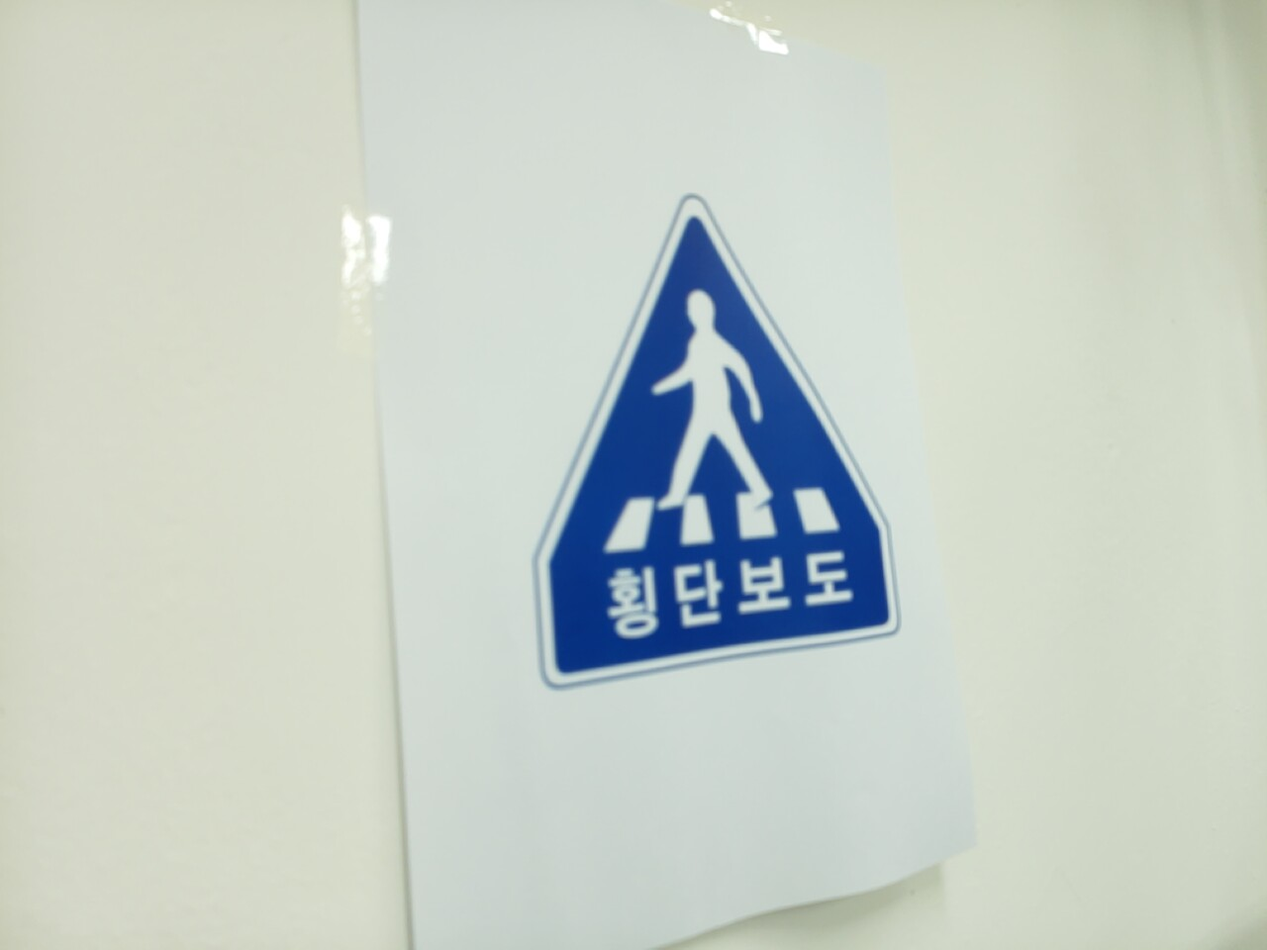crosswalk: (538, 204, 900, 686)
